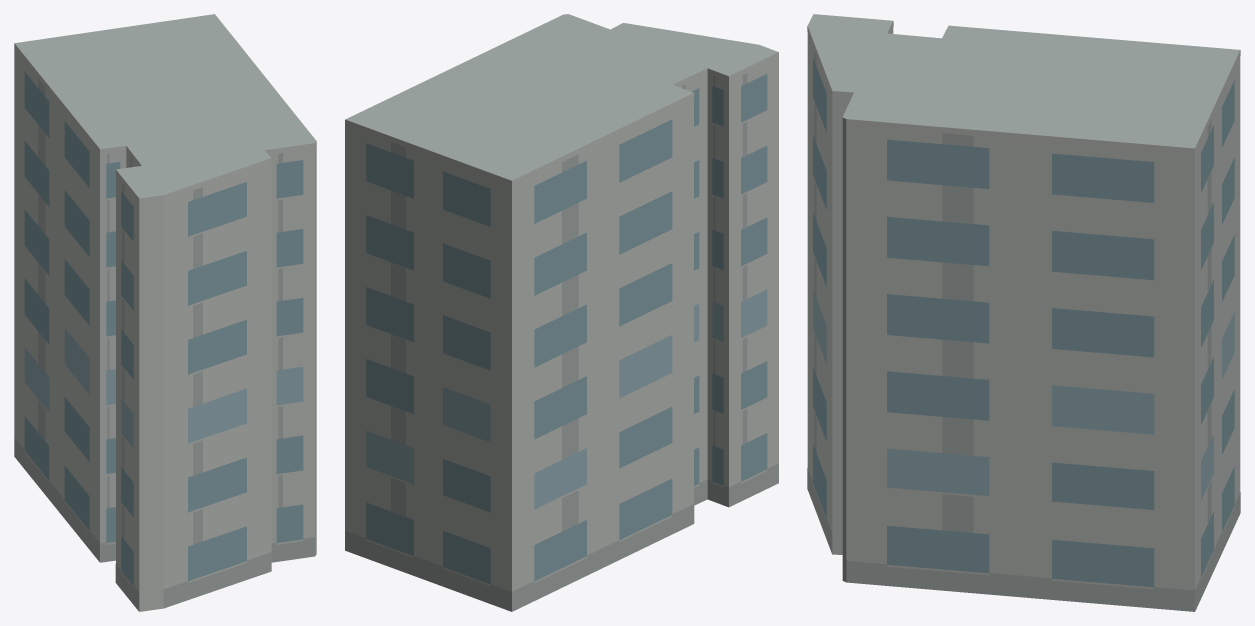
The model's file is survey-upis-32705427.glb.
3 views of the same model, side by side, from view 1: azimuth 30°, elevation 25°; view 2: azimuth 150°, elevation 25°; view 3: azimuth 270°, elevation 25° (orthographic). The views are drawn at different scales.
Parts seen in each view (by area): view 1: survey-upis-32705427.tmp; view 2: survey-upis-32705427.tmp; view 3: survey-upis-32705427.tmp.
Part boxes in pixels (x1,y1,x2,y2): survey-upis-32705427.tmp: (14, 14, 316, 611); survey-upis-32705427.tmp: (345, 14, 778, 611); survey-upis-32705427.tmp: (807, 14, 1240, 611).
Bounding box in the file's own units: 11.64 × 18.7 × 15.84.
